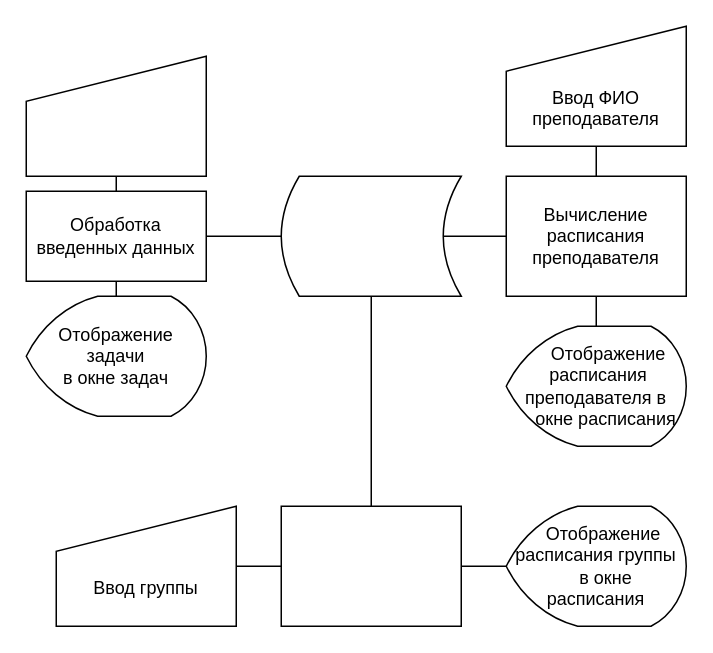
Image size: 713x653. Some labels were removed from this diagram. The shapes that lost their labels are listed below. From the top down, each one's box as (x1, y1, x2, y2) in pixels, then its label:
(25, 55, 206, 176): Ввод задачи
(280, 175, 461, 296): Локальная база данных
(280, 505, 461, 626): Получение расписание группы из базы данных
